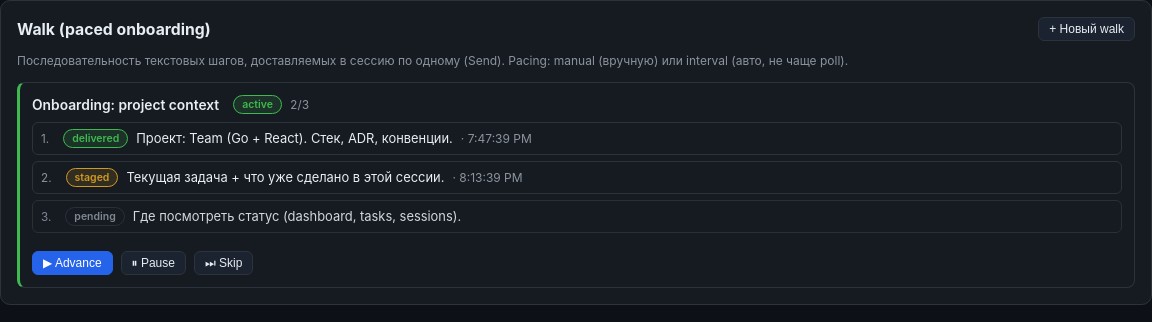
P3.14: walk (paced onboarding) › advance: последний шаг → completed (3/3), Advance-кнопка исчезает
Click the button "▶ Advance".
click(72, 263)  # box [32,251,113,275]
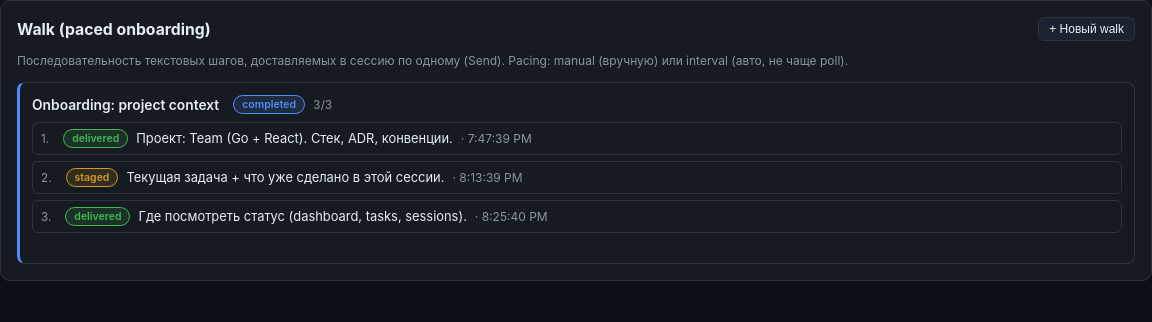
expect the text with test id "walk-progress" reads "3/3": met, box [313,98,332,112]
expect the text "completed" is shown: met, box [233,95,305,114]
expect the button "Advance" is gone: met
